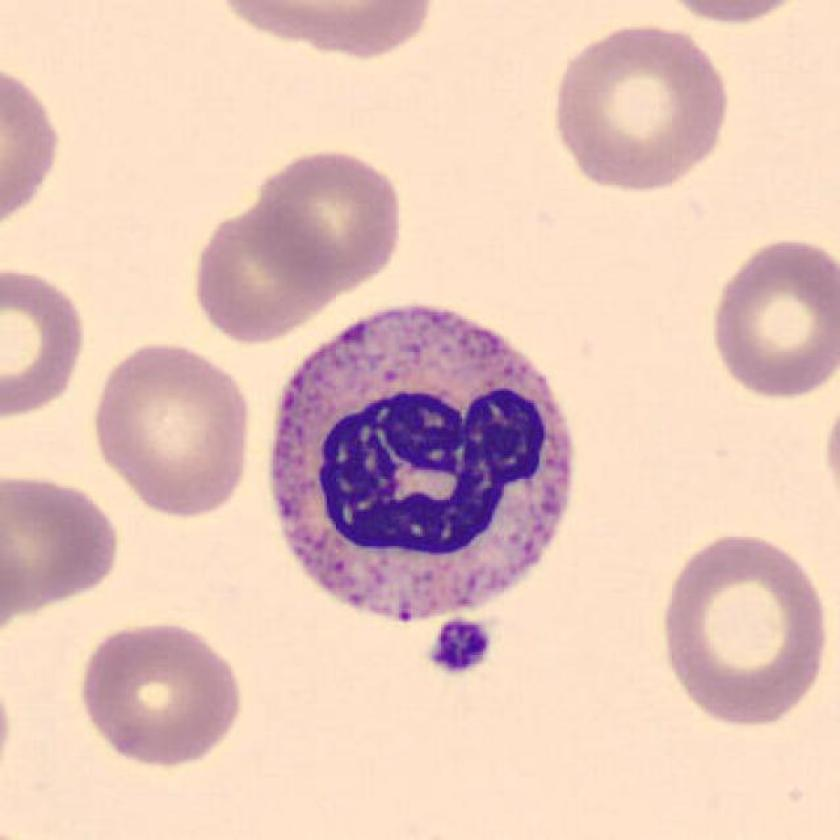neutrophil: (264, 296, 584, 634)
